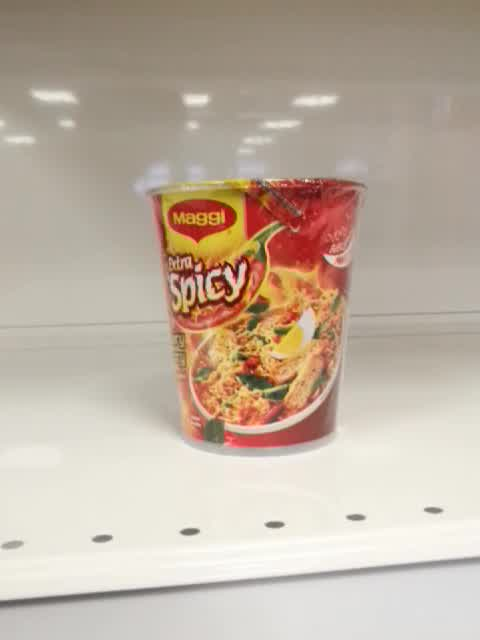maggi: (145, 177, 368, 458)
